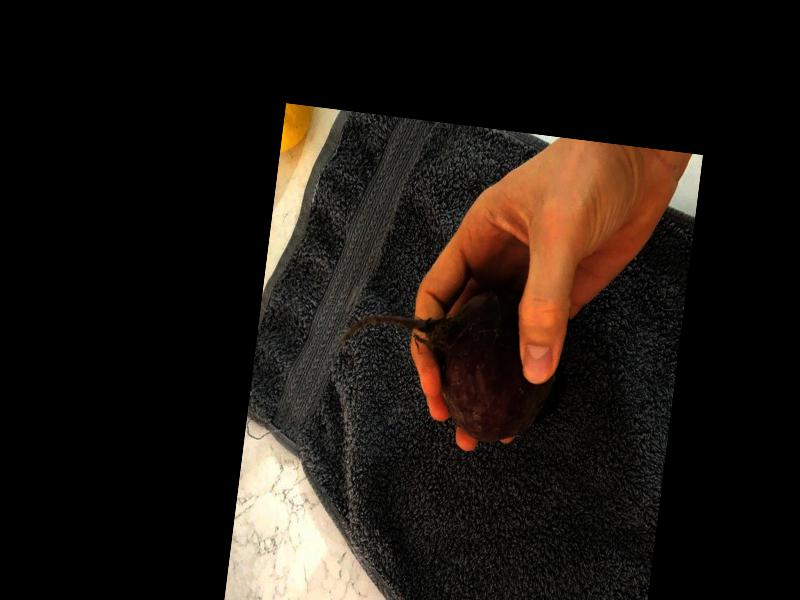Beet: (330, 270, 577, 450)
